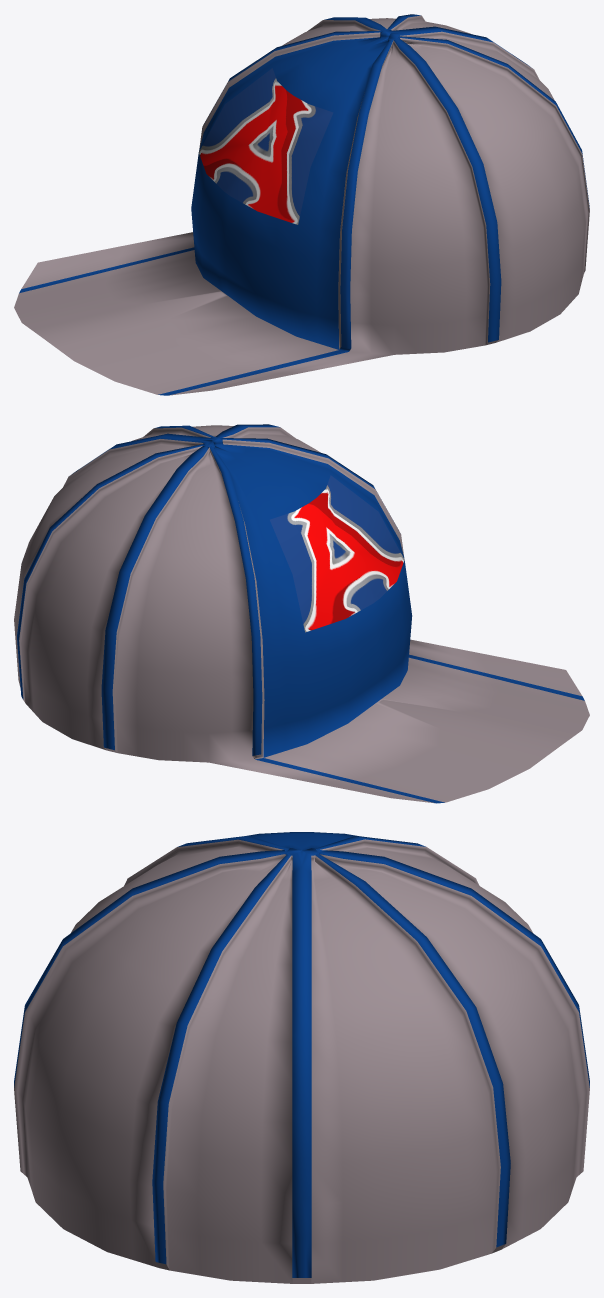
The model's file is acererosonly.glb.
3 renders of one model, top to bottom at view 1: azimuth 30°, elevation 25°; view 2: azimuth 150°, elevation 25°; view 3: azimuth 270°, elevation 25°, orthographic. The views are drawn at different scales.
Parts seen in each view (by area): view 1: Sphere.007; view 2: Sphere.007; view 3: Sphere.007.
Part boxes in pixels (<box>): Sphere.007: <box>14,14,589,395</box>; Sphere.007: <box>14,424,589,803</box>; Sphere.007: <box>14,832,589,1283</box>.
Size of the model in its own units: 1.33 by 0.5819 by 0.94.
Materials: 3 (1 with a texture image).
